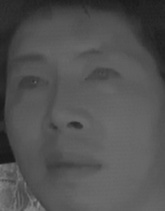eye: (85, 66, 122, 86), (15, 73, 49, 94)
mouth: (43, 146, 103, 184)
